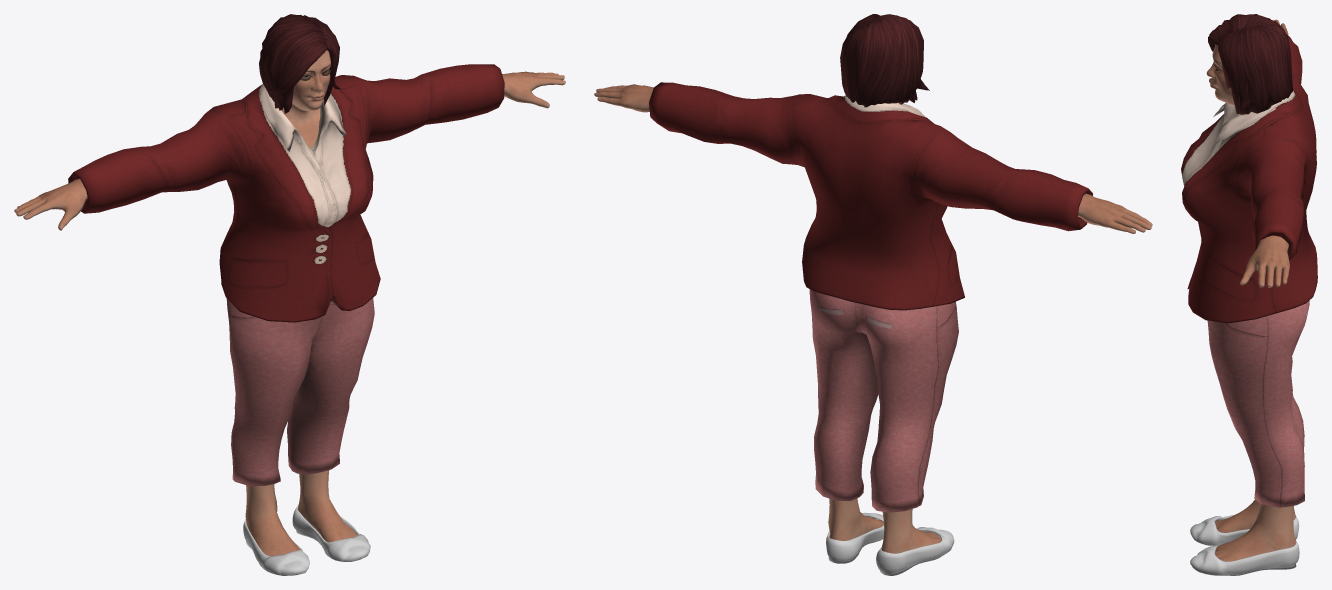
Rendered from kadinHoca.obj.
3 views of the same model, side by side, from view 1: azimuth 30°, elevation 25°; view 2: azimuth 150°, elevation 25°; view 3: azimuth 270°, elevation 25° (orthographic).
Parts seen in each view (by area): view 1: Tops, Bottoms, Body, Hair, Shoes; view 2: Tops, Bottoms, Hair, Body, Shoes; view 3: Tops, Bottoms, Hair, Body, Shoes.
Part boxes in pixels (x1=…): Tops: x1=68, y1=64, x2=504, y2=322; Bottoms: x1=226, y1=298, x2=374, y2=486; Body: x1=14, y1=50, x2=565, y2=555; Hair: x1=259, y1=14, x2=340, y2=113; Shoes: x1=243, y1=505, x2=370, y2=575; Tops: x1=649, y1=82, x2=1092, y2=310; Bottoms: x1=809, y1=289, x2=958, y2=512; Hair: x1=840, y1=14, x2=929, y2=107; Body: x1=594, y1=84, x2=1152, y2=553; Shoes: x1=826, y1=512, x2=954, y2=575; Tops: x1=1181, y1=34, x2=1317, y2=323; Bottoms: x1=1207, y1=300, x2=1309, y2=507; Hair: x1=1208, y1=14, x2=1292, y2=114; Body: x1=1206, y1=19, x2=1295, y2=561; Shoes: x1=1190, y1=515, x2=1299, y2=575.
Bounding box in the file's own units: 184 × 170 × 39.32.
